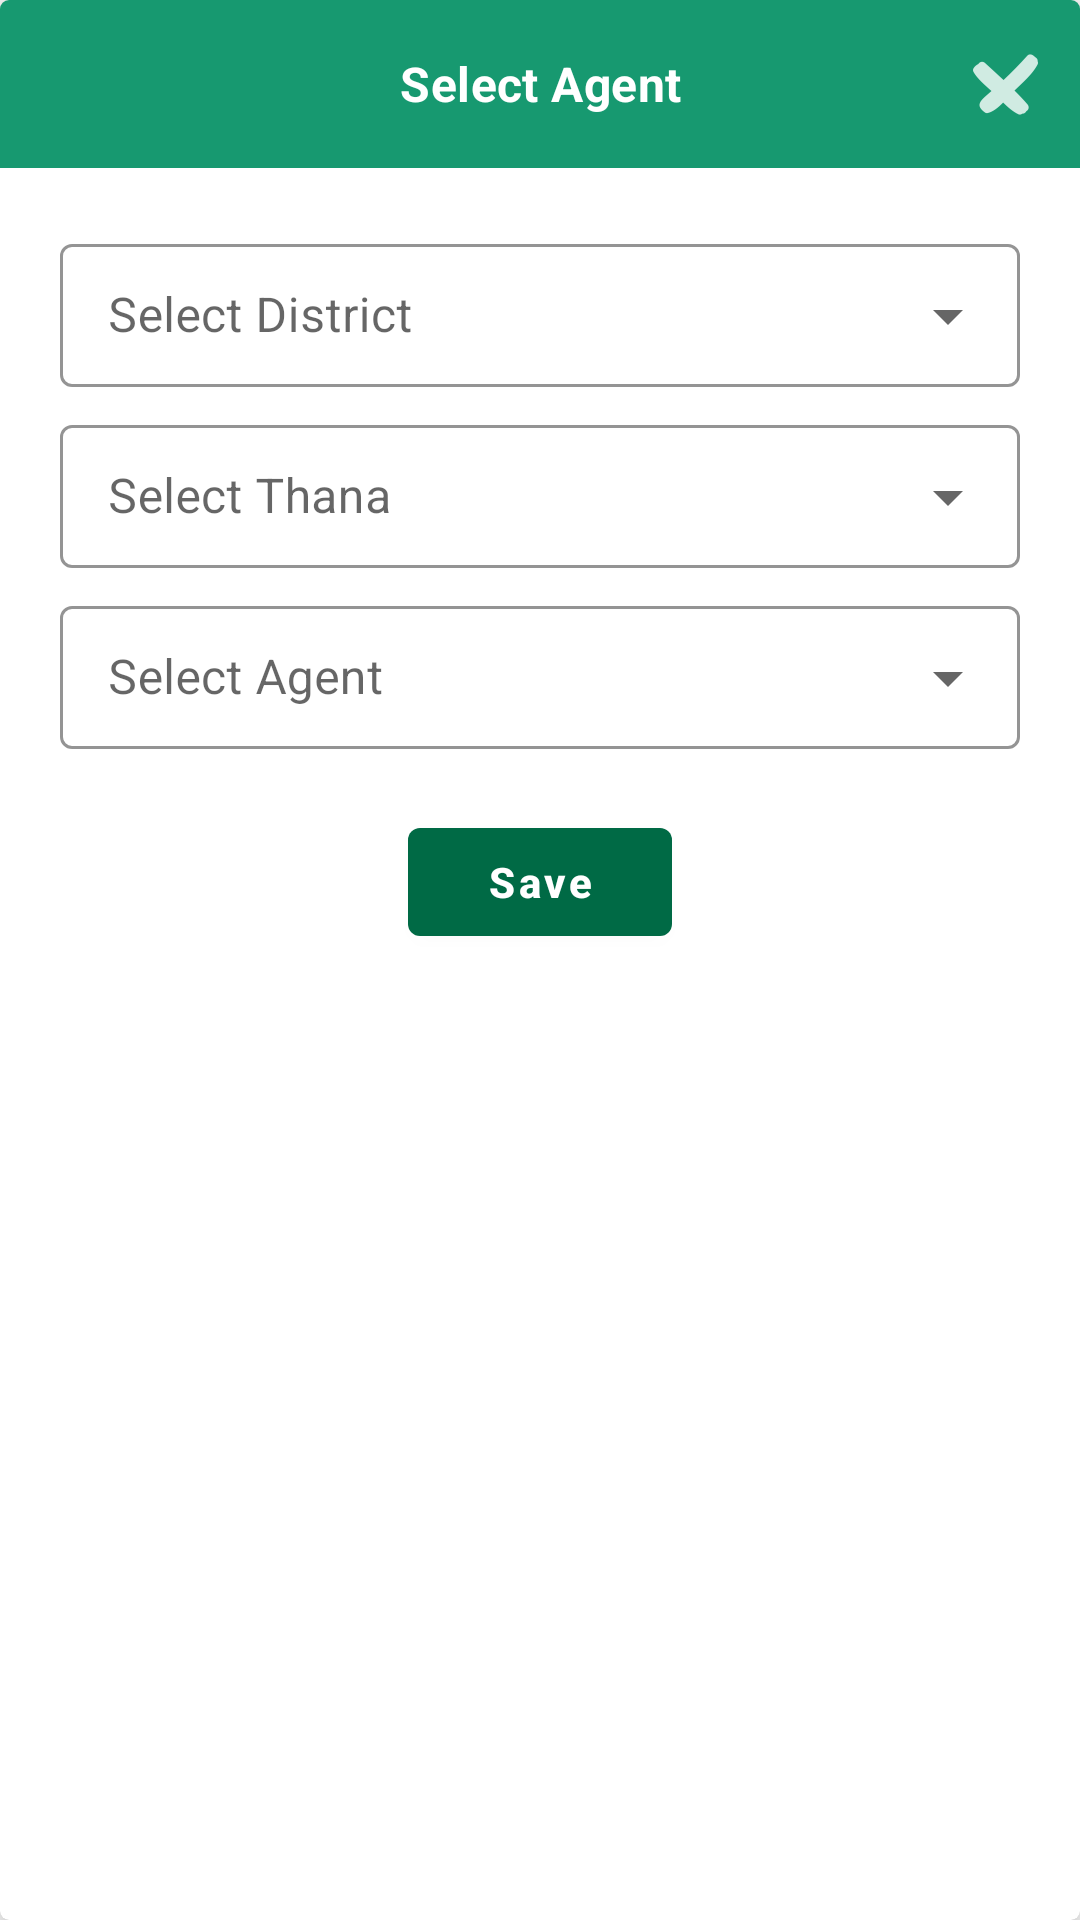

Icon click points for this 1080*1920 phone screenshot, format point (x, y):
pbi cross: point (1026, 57)
